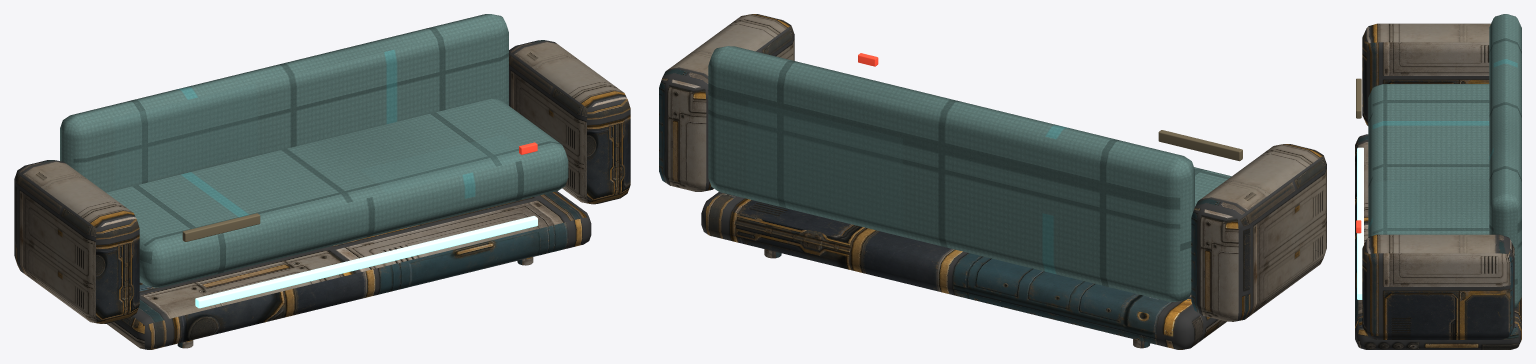
File: hp_room_lounge_sofa_residential.glb
3 renders of one model, left to right at view 1: azimuth 30°, elevation 25°; view 2: azimuth 150°, elevation 25°; view 3: azimuth 270°, elevation 25°, orthographic. The views are drawn at different scales.
Visible parts, largest first — view 1: seat_cushion_single_mass, back_rest_broad_low, contact_shadow_plinth, left_arm_block, right_arm_block, under_cyan_service_strip, warm_residential_nameplate_blank; view 2: back_rest_broad_low, contact_shadow_plinth, left_arm_block, right_arm_block, warm_residential_nameplate_blank, seat_cushion_single_mass; view 3: seat_cushion_single_mass, right_arm_block, left_arm_block, back_rest_broad_low, contact_shadow_plinth, under_cyan_service_strip, warm_residential_nameplate_blank.
Boxes of the visible parts, <box> form: seat_cushion_single_mass: <box>106,98,568,287</box>; back_rest_broad_low: <box>60,14,508,192</box>; contact_shadow_plinth: <box>107,191,591,349</box>; left_arm_block: <box>14,160,139,323</box>; right_arm_block: <box>509,40,630,204</box>; under_cyan_service_strip: <box>195,216,537,308</box>; warm_residential_nameplate_blank: <box>182,213,260,241</box>; back_rest_broad_low: <box>708,46,1194,301</box>; contact_shadow_plinth: <box>701,192,1226,349</box>; left_arm_block: <box>1191,144,1326,321</box>; right_arm_block: <box>659,14,794,191</box>; warm_residential_nameplate_blank: <box>1158,130,1242,161</box>; seat_cushion_single_mass: <box>1194,167,1231,206</box>; seat_cushion_single_mass: <box>1368,84,1489,236</box>; right_arm_block: <box>1362,234,1514,339</box>; left_arm_block: <box>1362,23,1490,125</box>; back_rest_broad_low: <box>1489,14,1521,308</box>; contact_shadow_plinth: <box>1355,134,1521,349</box>; under_cyan_service_strip: <box>1357,147,1363,299</box>; warm_residential_nameplate_blank: <box>1356,78,1361,118</box>.
Size of the model in its own units: 2.73 by 0.8952 by 0.8233.
Materials: 6 (3 with a texture image).
